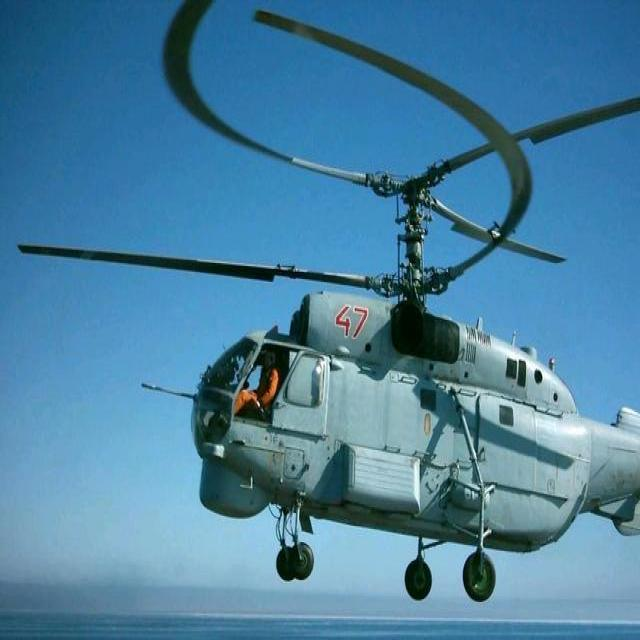MIL_HELO: (16, 0, 640, 604)
